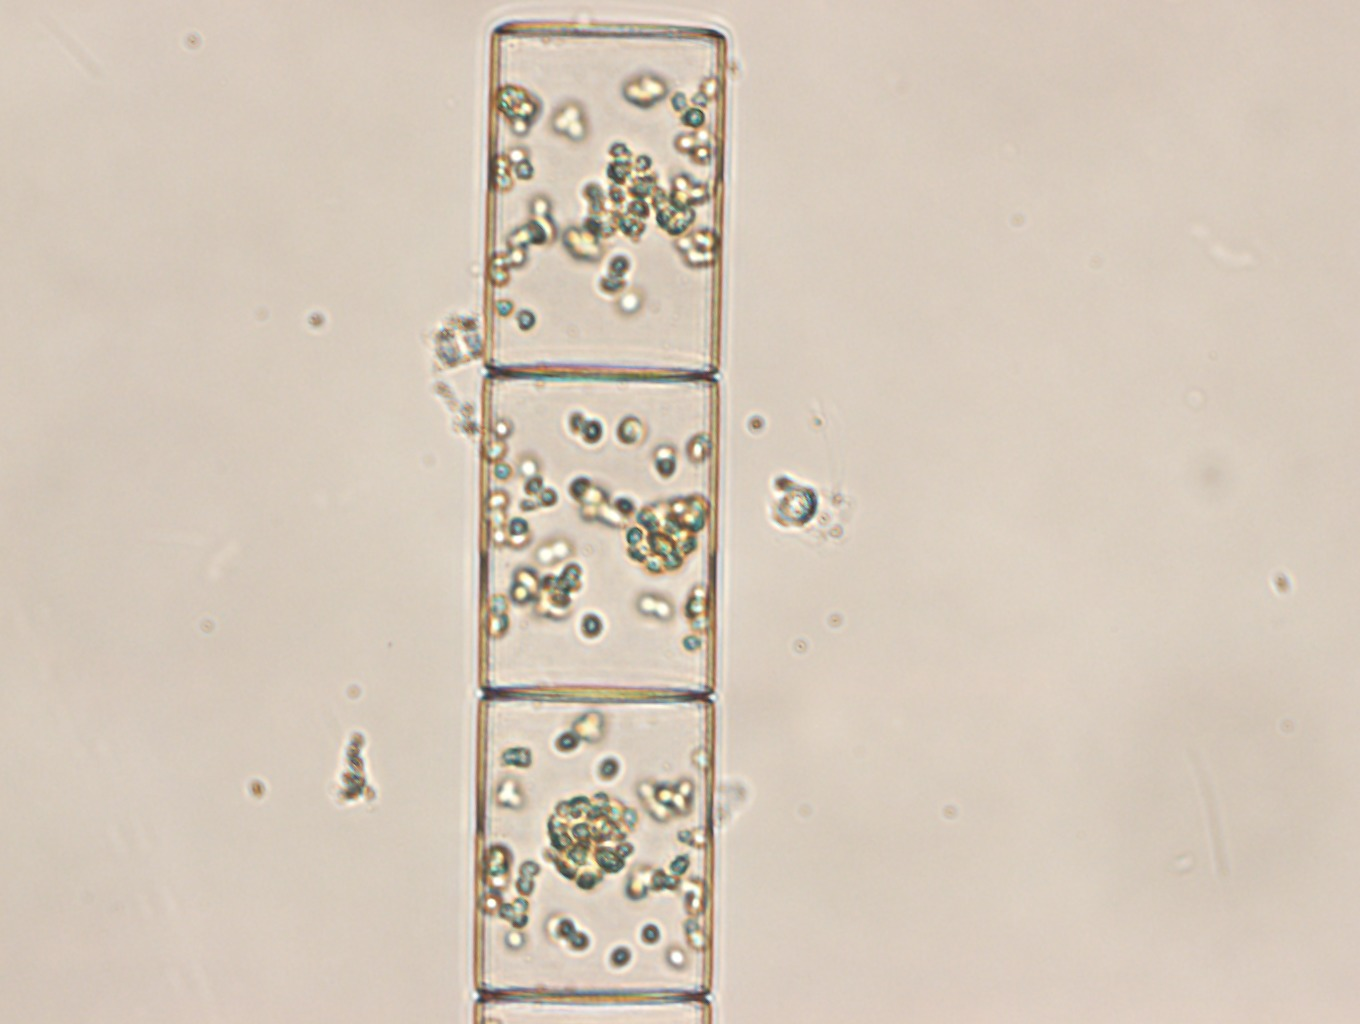guinardia flaccida: (467, 22, 730, 1024)
